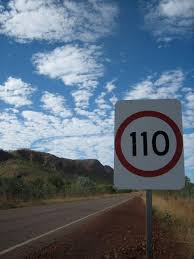Speed_limit_110km: (115, 111, 183, 178)
